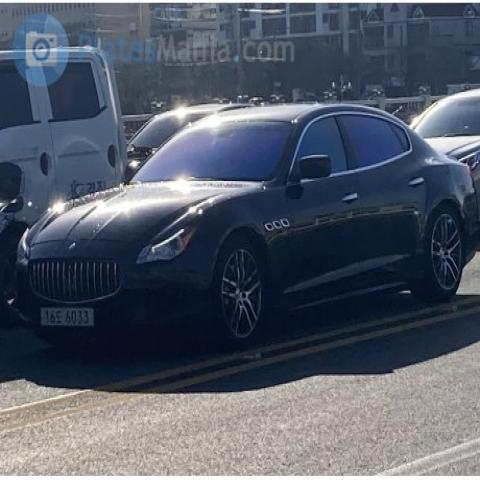LP: (33, 300, 100, 338)
